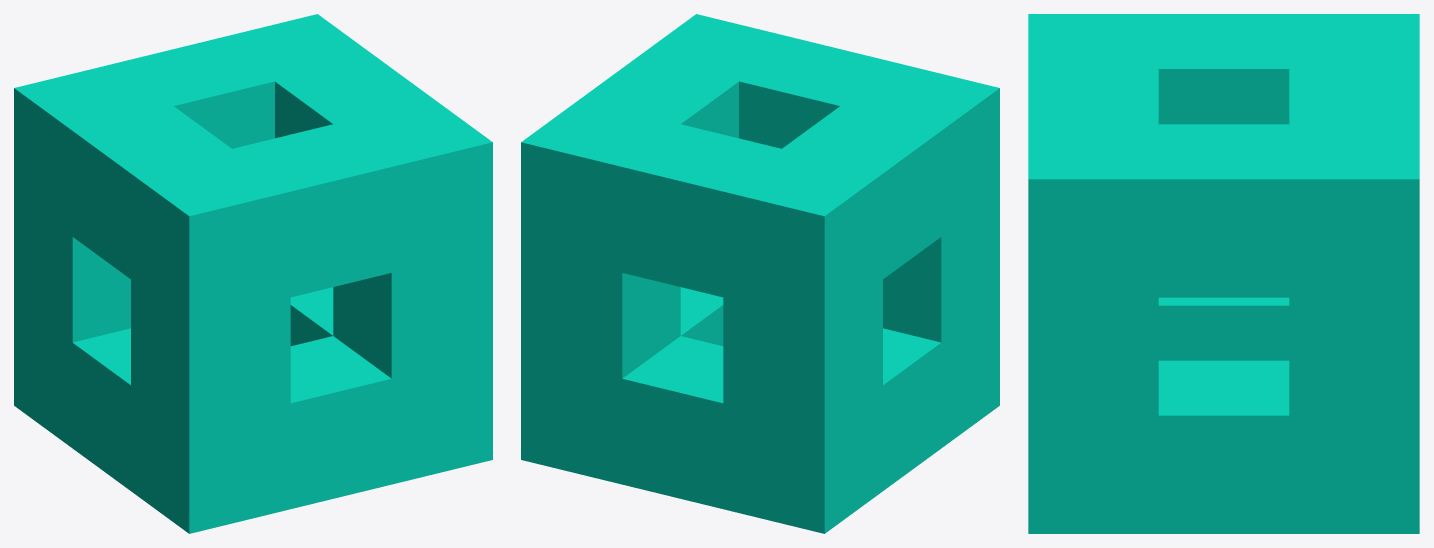
File: sponge.glb
The picture shows the model from 3 angles, left to right: view 1: azimuth 30°, elevation 25°; view 2: azimuth 150°, elevation 25°; view 3: azimuth 270°, elevation 25°; orthographic projection. The views are drawn at different scales.
Visible parts, largest first — view 1: Sponge; view 2: Sponge; view 3: Sponge.
Part boxes in pixels (x1,y1,x2,y2): Sponge: (14,14,492,533); Sponge: (521,14,999,533); Sponge: (1028,14,1419,533).
Bounding box in the file's own units: 2 × 2 × 2.
